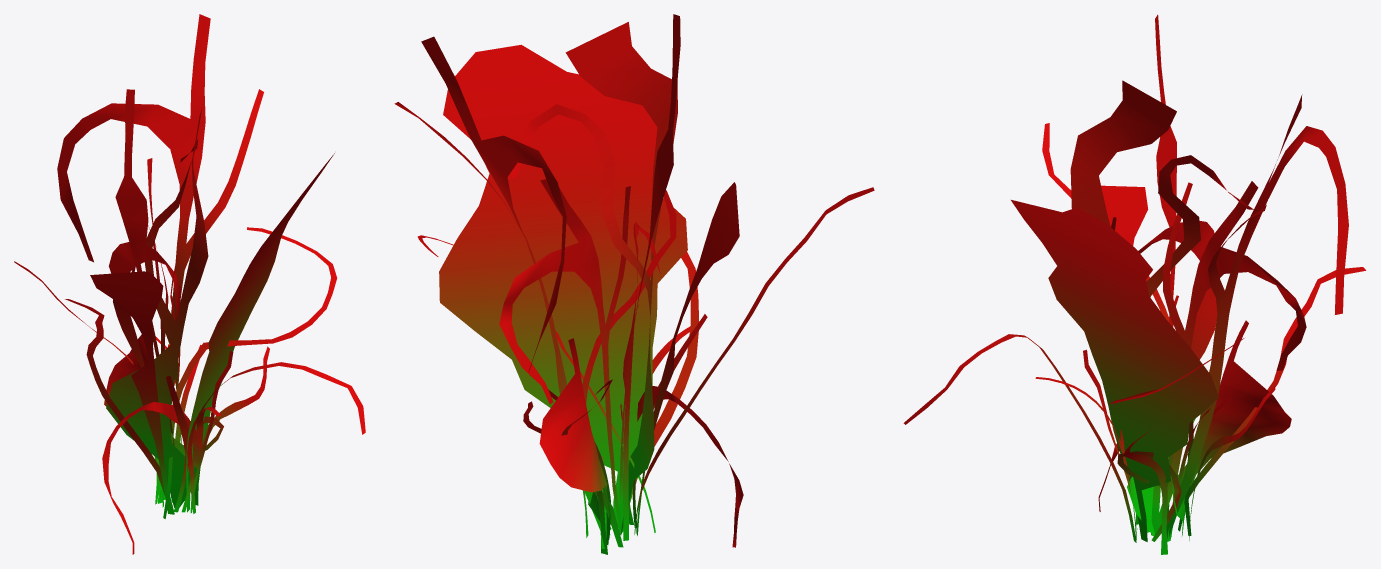
Rendered from skljc_Var5_LOD0.fbx.
3 views of the same model, side by side, from view 1: azimuth 30°, elevation 25°; view 2: azimuth 150°, elevation 25°; view 3: azimuth 270°, elevation 25° (orthographic). The views are drawn at different scales.
Visible parts, largest first — view 1: _ba1c_Var5_LOD0; view 2: _ba1c_Var5_LOD0; view 3: _ba1c_Var5_LOD0.
Part boxes in pixels (x1=…): _ba1c_Var5_LOD0: x1=14, y1=14, x2=365, y2=554; _ba1c_Var5_LOD0: x1=394, y1=14, x2=874, y2=554; _ba1c_Var5_LOD0: x1=903, y1=14, x2=1365, y2=554.
Size of the model in its own units: 39.38 by 52.46 by 43.31.
